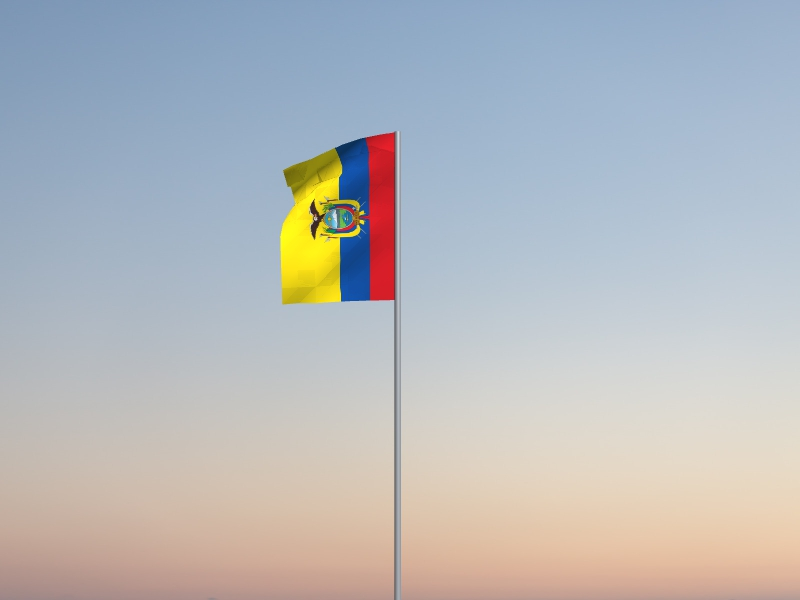ec: (280, 133, 395, 306)
